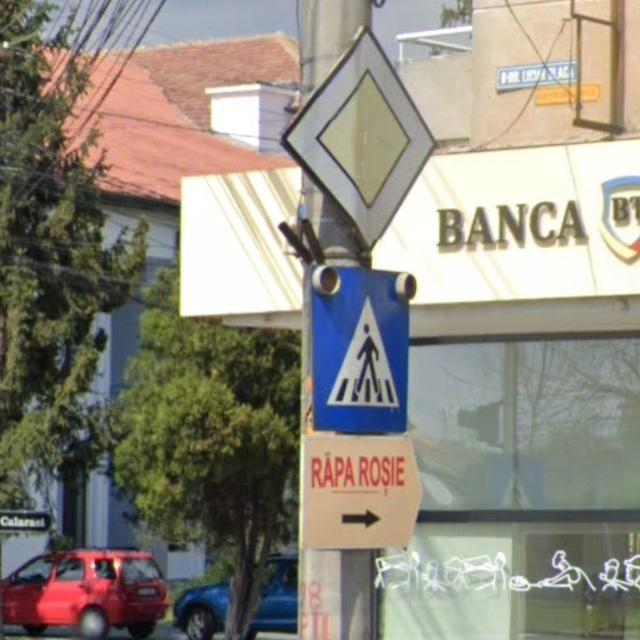info_crosswalk: (308, 265, 412, 434)
